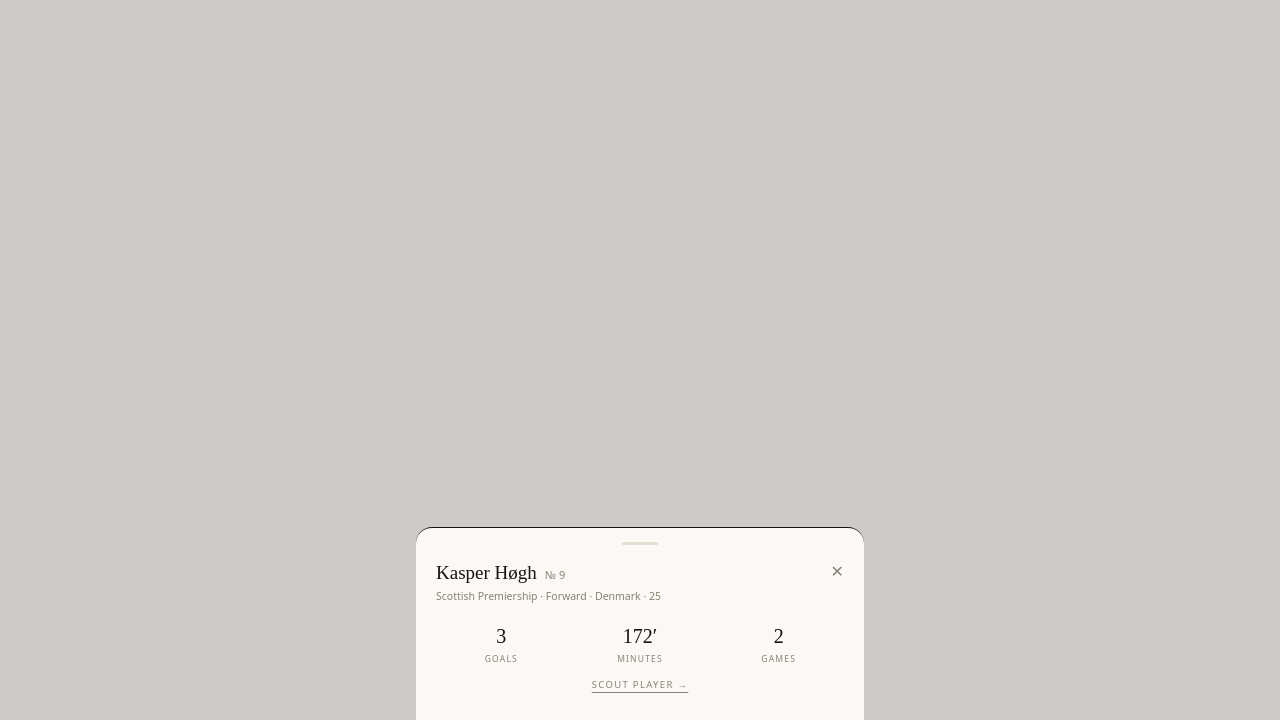
Scenario: an upward drag of 40px+ on the sheet expands it from the peek
Press the mouse on the element that starts with "Kasper Høgh" at x=640, y=623, box [416, 527, 864, 719]
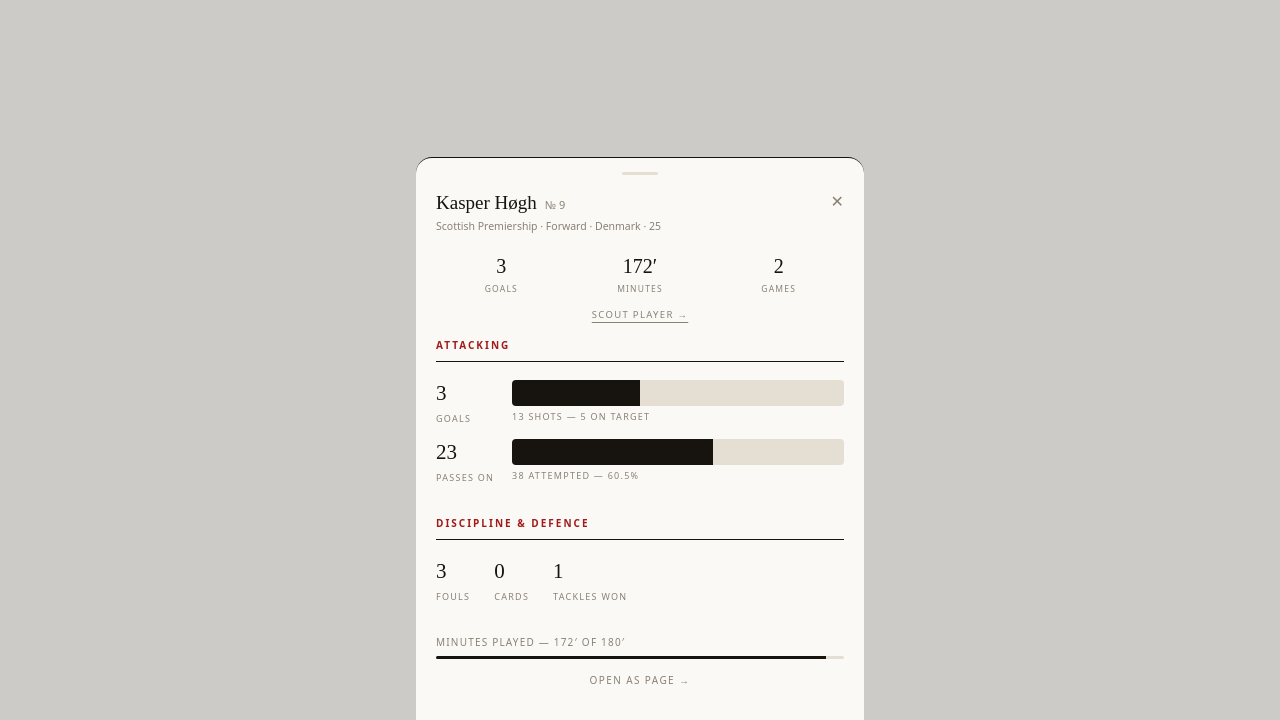
Check: the heading "Attacking" is shown, box [436, 338, 844, 362]
